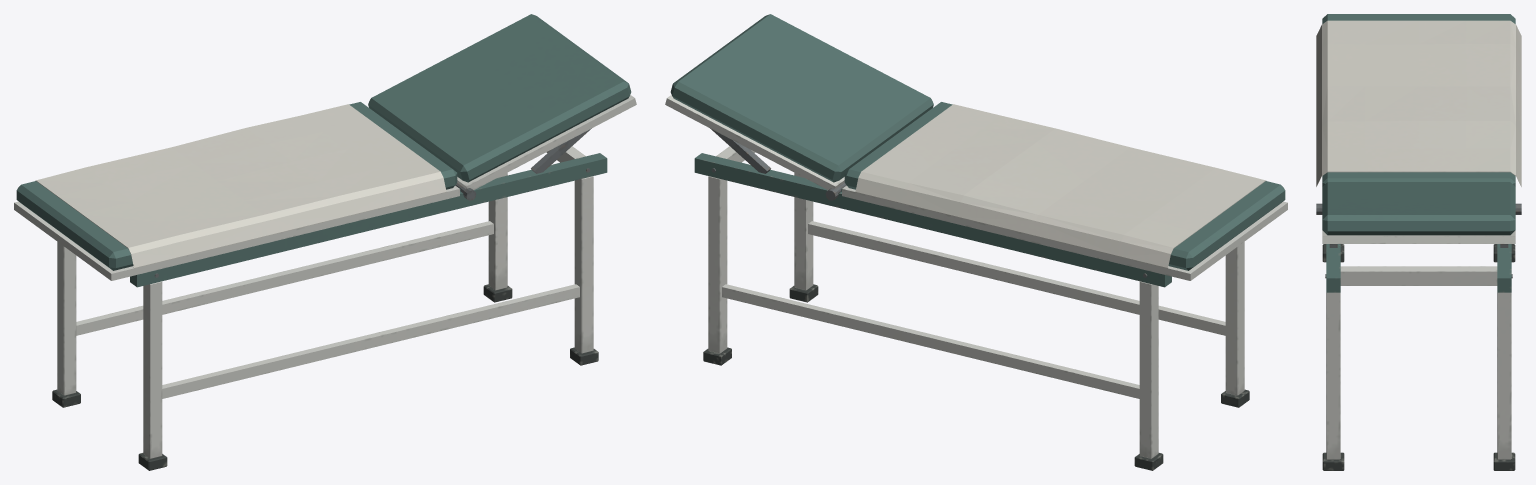
File: clinic_examination_bed_with_sheet.glb
3 renders of one model, left to right at view 1: azimuth 30°, elevation 25°; view 2: azimuth 150°, elevation 25°; view 3: azimuth 270°, elevation 25°, orthographic.
Parts seen in each view (by area): view 1: ClinicBedWithSheet; view 2: ClinicBedWithSheet; view 3: ClinicBedWithSheet.
Part boxes in pixels (bbox=[...]): ClinicBedWithSheet: bbox=[14, 14, 636, 470]; ClinicBedWithSheet: bbox=[665, 14, 1287, 470]; ClinicBedWithSheet: bbox=[1316, 14, 1521, 470].
Size of what is drawn, in the model's own units: 1.9 by 0.9393 by 0.65.
1 material, 1 textured.
